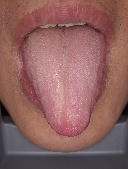tongue: (19, 33, 108, 138)
